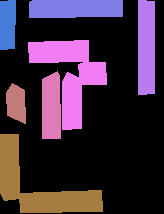parkingspot: (19, 190, 102, 212), (29, 0, 122, 17), (138, 0, 154, 94), (28, 40, 88, 62), (0, 134, 19, 200), (42, 71, 60, 138), (62, 72, 82, 129), (6, 83, 25, 123), (0, 0, 15, 49), (78, 62, 106, 84)
